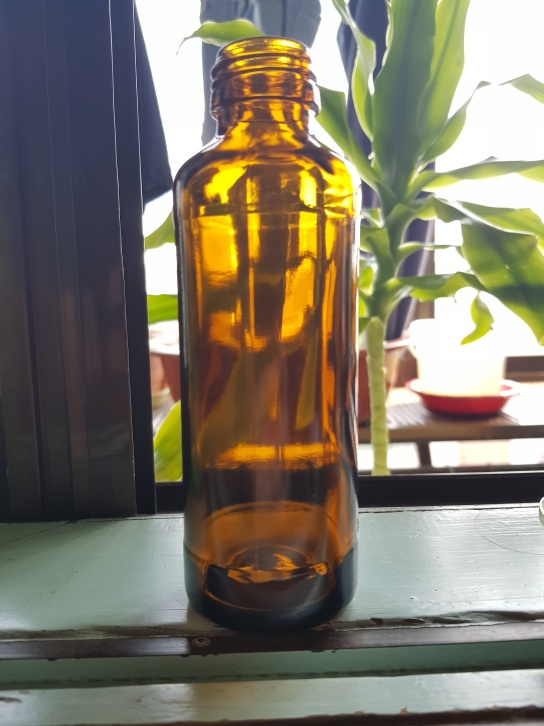Glass: (173, 38, 363, 631)
